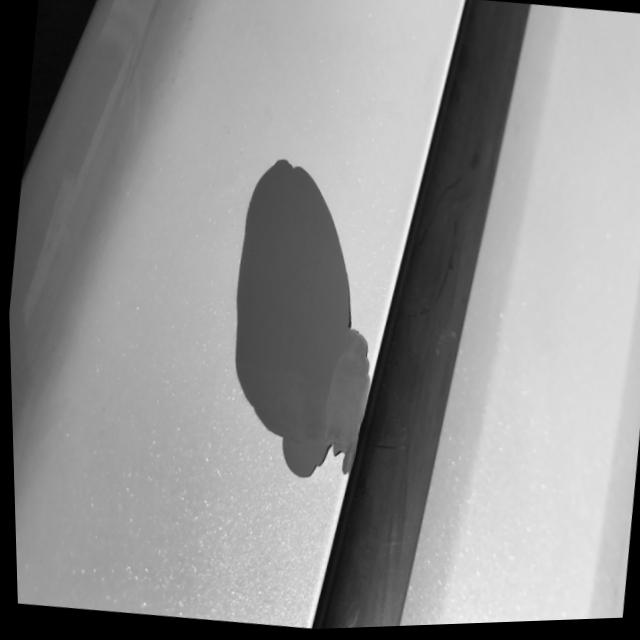Paint-fading: (230, 153, 375, 487)
